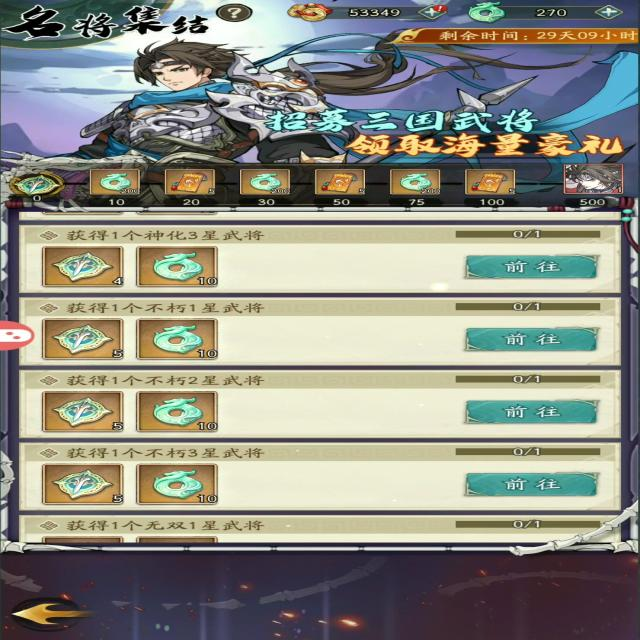hint-reddot: (435, 3, 456, 16)
operation-back: (8, 601, 93, 633)
operation-buy: (450, 256, 604, 282), (458, 403, 599, 428), (458, 330, 599, 354), (471, 477, 605, 500)
operation-rule: (206, 3, 259, 27)
ref-buytext: (40, 444, 274, 466), (42, 221, 256, 242), (47, 371, 281, 388), (41, 300, 284, 314), (39, 521, 276, 534)
